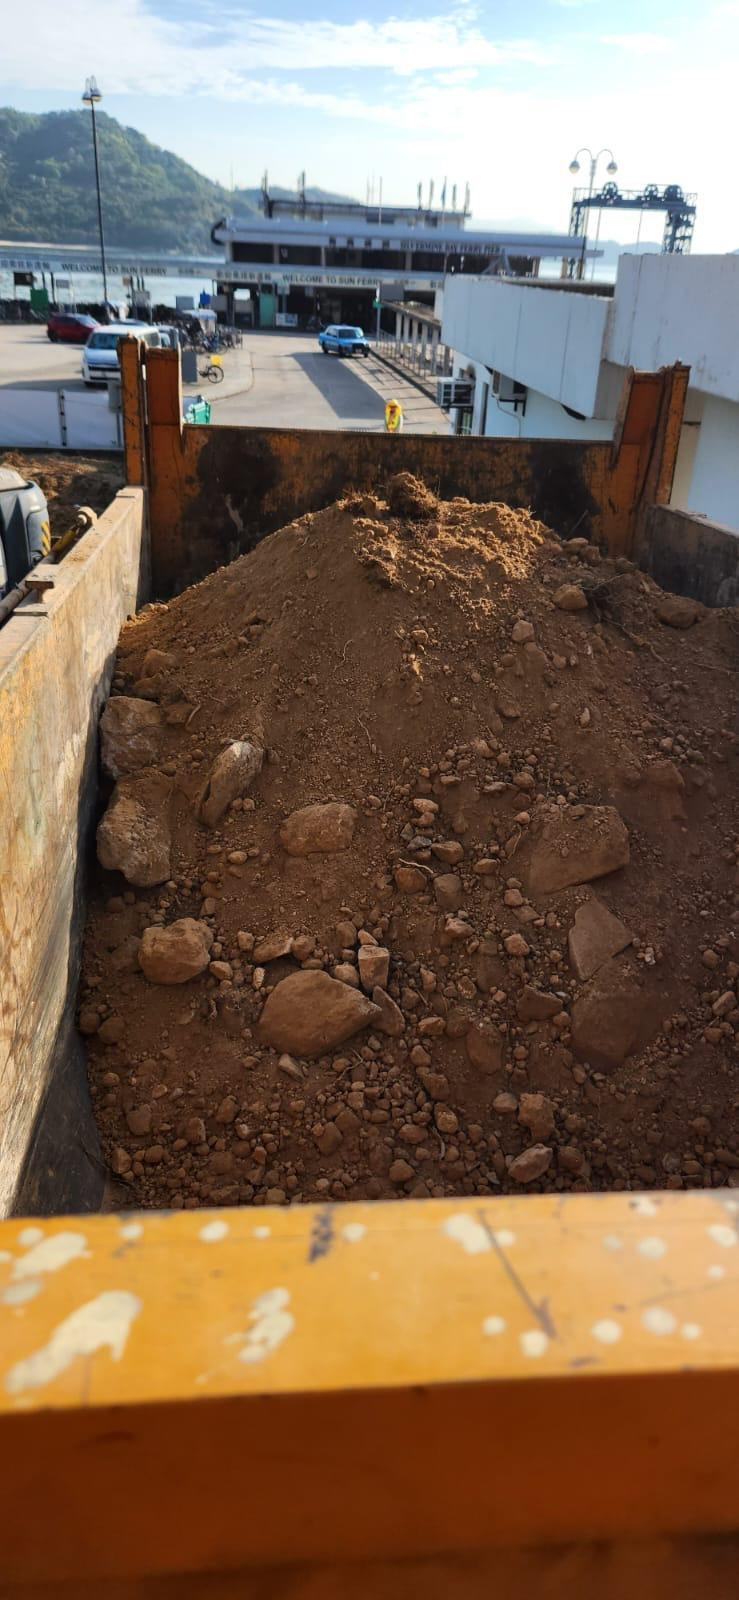dry: (170, 600, 668, 1172)
